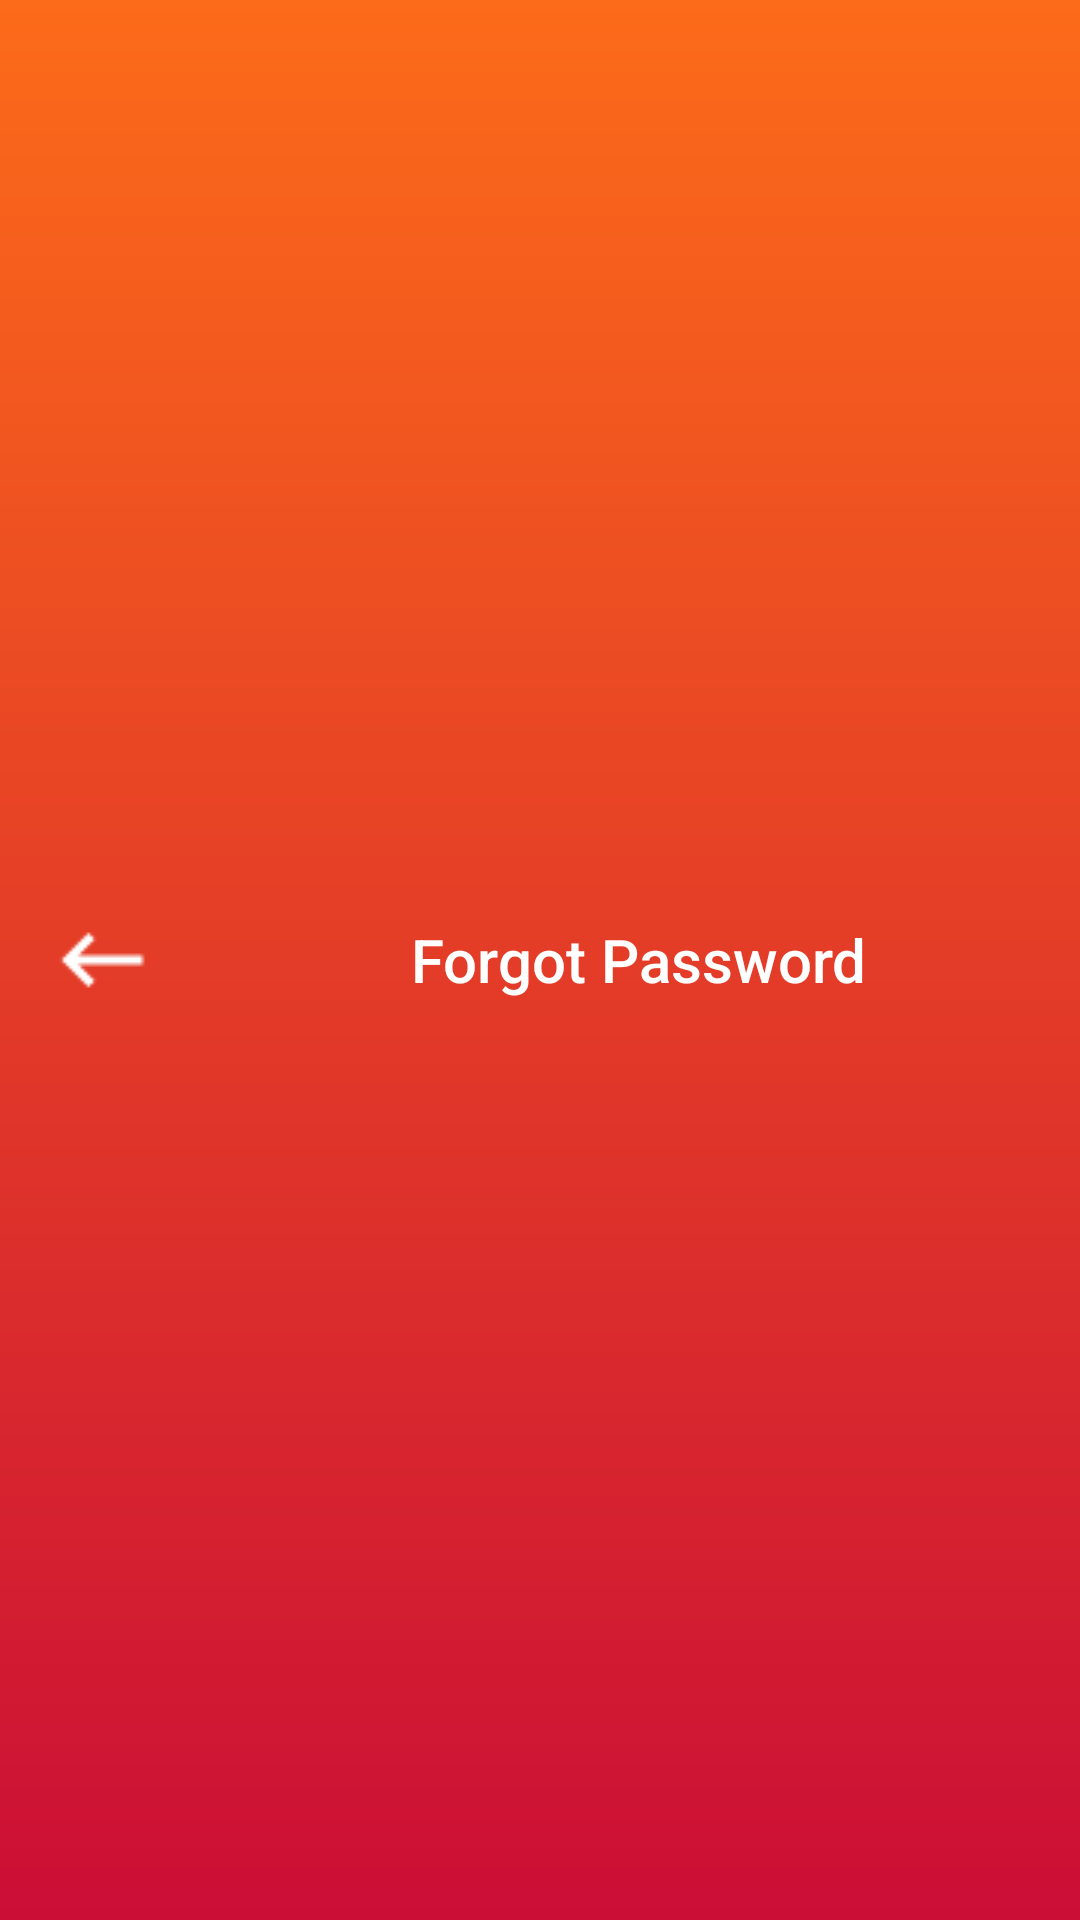

Icon bounding boxes for this 1080 × 1920 phone screenshot, format (x1, y1, x2, y2):
keyboard backspace: (61, 932, 145, 988)
